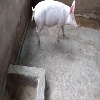heo: (28, 1, 85, 44)
